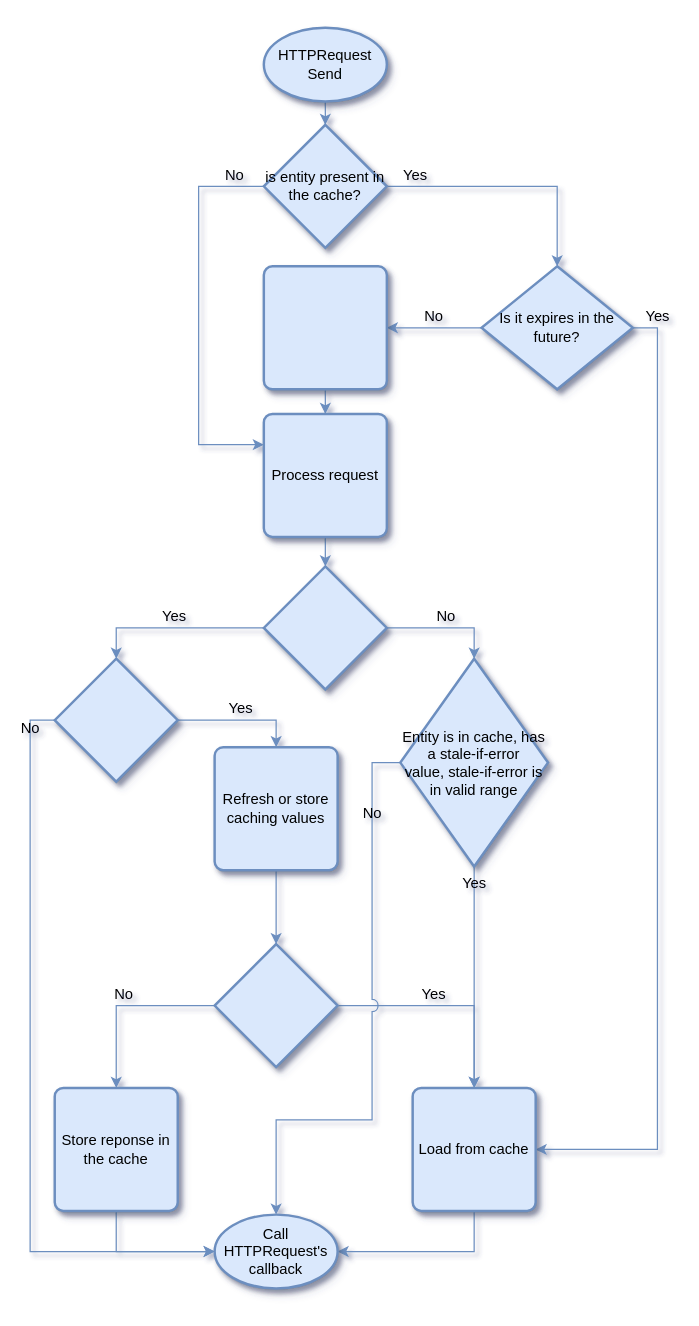
Image size: 699x1326. Some labels were removed from this diagram. Each missing label, with the centre of its shape:
Add cache-revalidation headers to the HTTPRequest: (326,329)
Is any caching headers present in the response?: (117,721)
Response is an "304 - Not modified"?: (277,1006)
Success?: (326,629)
